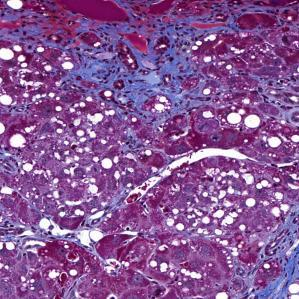fibrosis: (66, 19, 205, 111), (262, 244, 299, 299)
